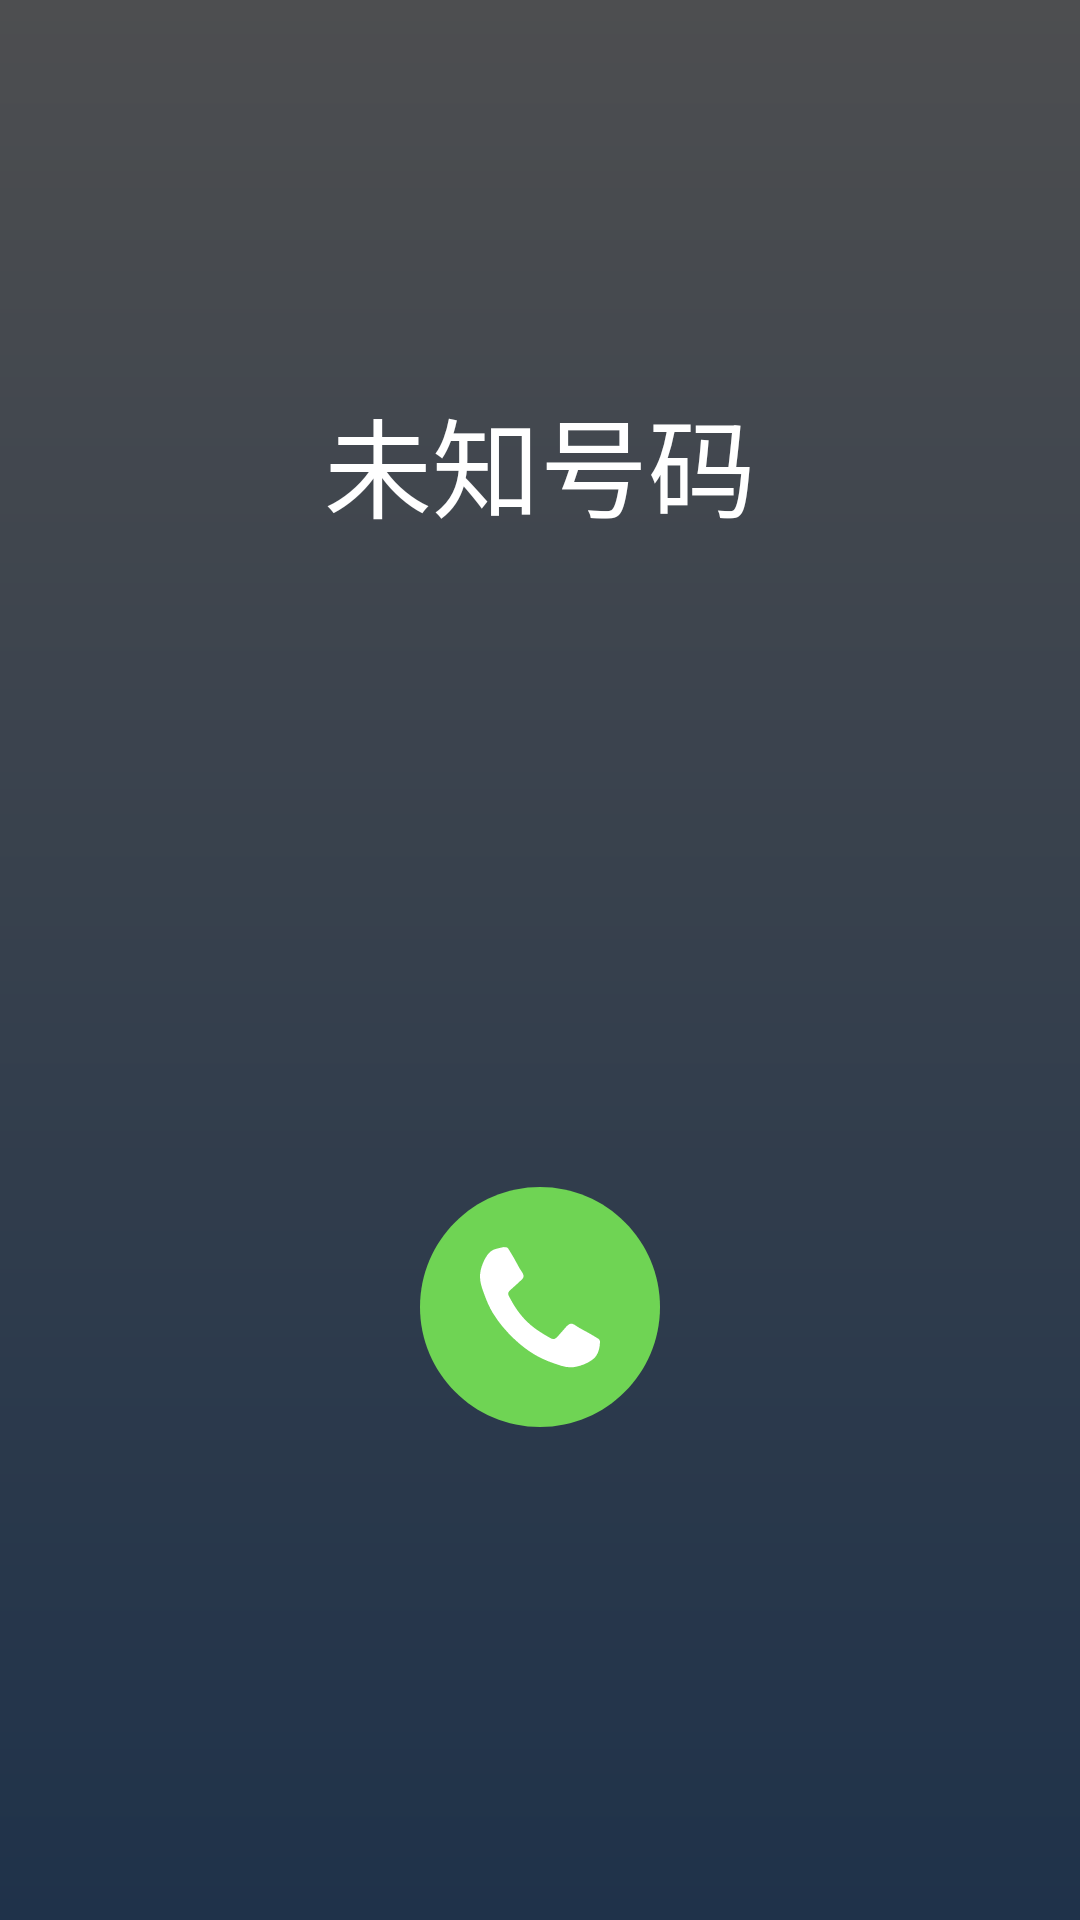

Screen size 1080 x 1920. Icon name, then its center in pixels as point (x, y):
call: point (540, 1307)
